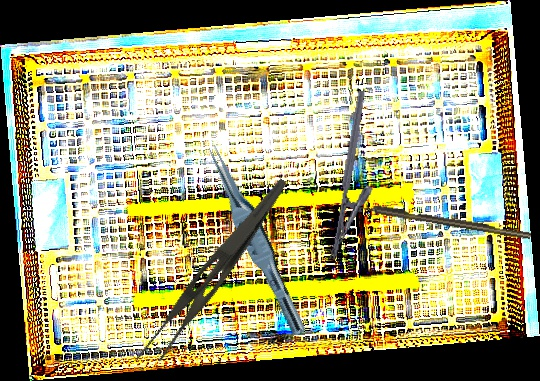Dressing Forceps: (132, 163, 289, 378)
Hook Surgical: (349, 200, 532, 241)
Needle Holder: (327, 90, 390, 264)
Tissue Forceps: (195, 141, 318, 338)
